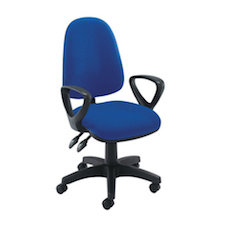chair: (32, 16, 185, 209)
